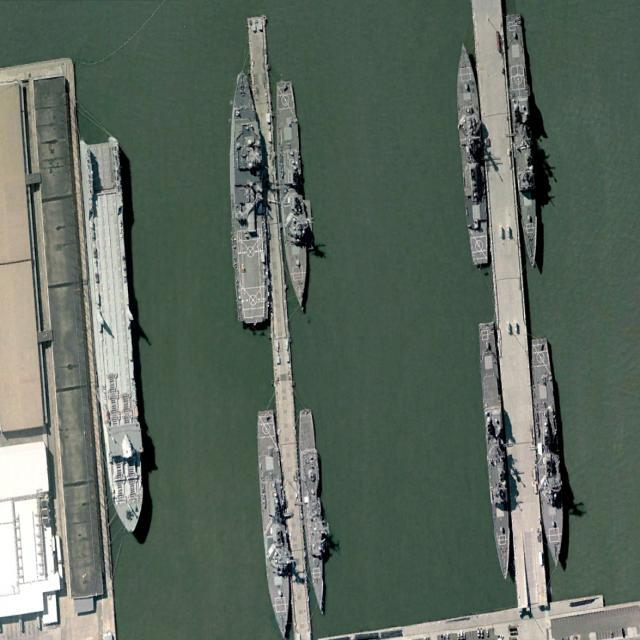Cargo: (77, 133, 151, 536)
Cruiser: (503, 11, 543, 270), (477, 321, 514, 583)
Destroyer: (253, 406, 298, 635), (271, 77, 314, 312), (529, 334, 571, 570), (451, 40, 491, 266)
Frigate: (294, 405, 336, 617)
Landing: (222, 69, 270, 327)
